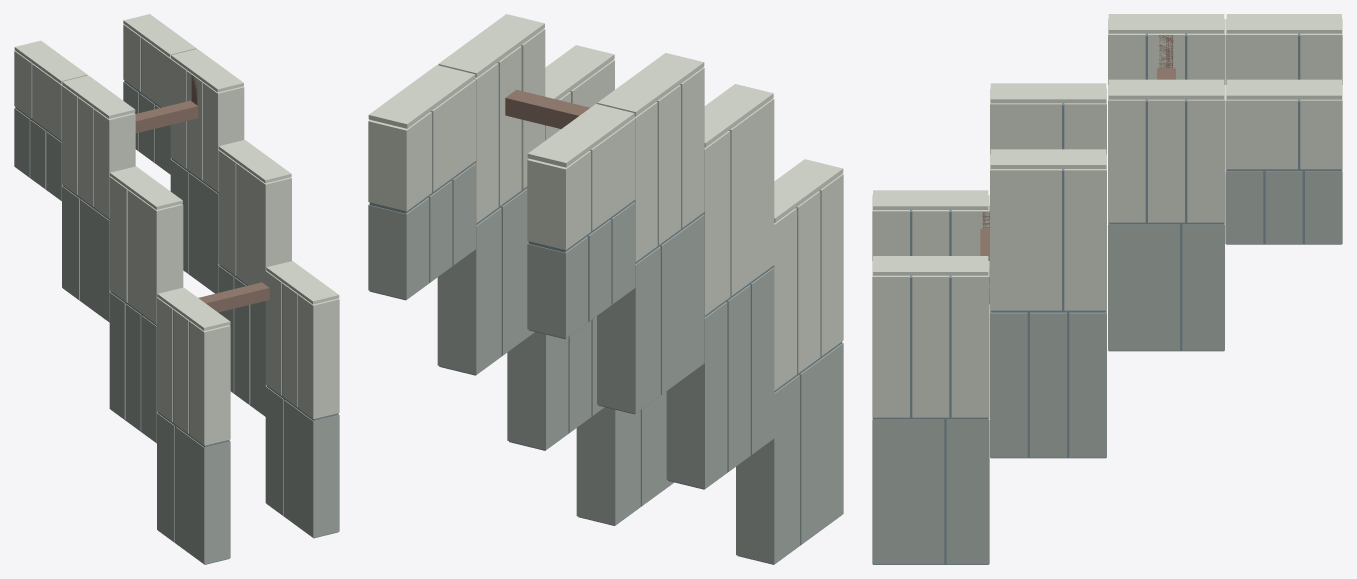
The model's file is world_dungeon_stairwell.fbx.
3 renders of one model, left to right at view 1: azimuth 30°, elevation 25°; view 2: azimuth 150°, elevation 25°; view 3: azimuth 270°, elevation 25°, orthographic. The views are drawn at different scales.
Parts seen in each view (by area): view 1: world_dungeon_stairwell_mesh; view 2: world_dungeon_stairwell_mesh; view 3: world_dungeon_stairwell_mesh.
Boxes of the visible parts, <box> form: world_dungeon_stairwell_mesh: <box>14,14,339,564</box>; world_dungeon_stairwell_mesh: <box>368,14,843,564</box>; world_dungeon_stairwell_mesh: <box>872,14,1342,564</box>.
Bounding box in the file's own units: 1.64 × 4.4 × 3.99.
